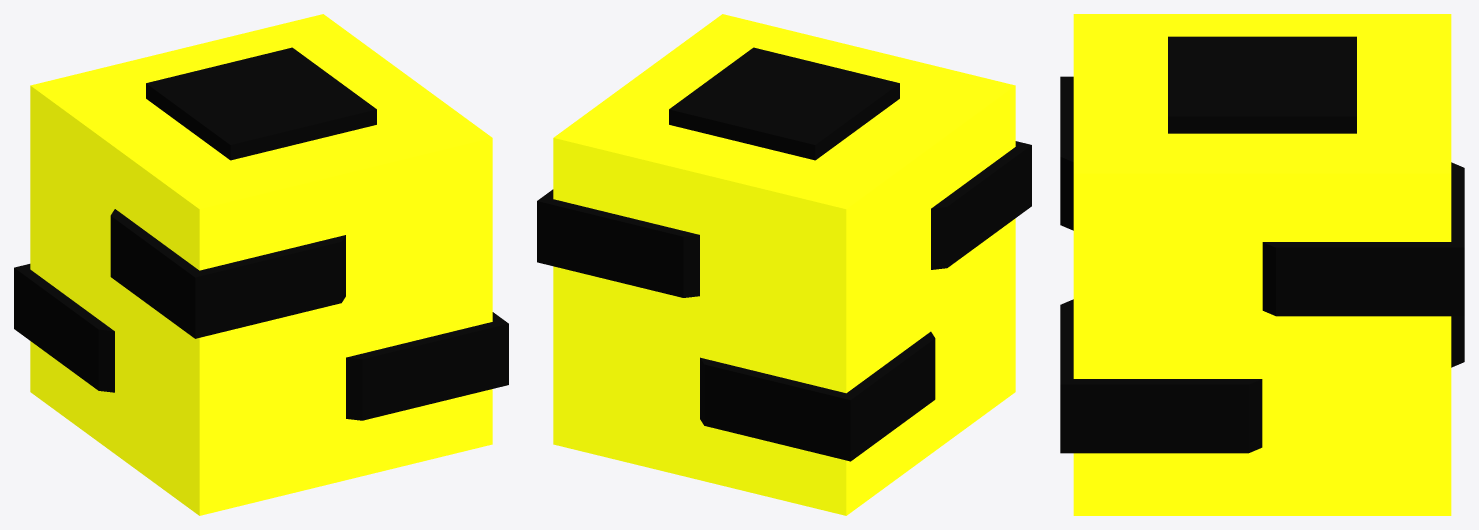
The model's file is Obstacle_1.fbx.
The picture shows the model from 3 angles, left to right: view 1: azimuth 30°, elevation 25°; view 2: azimuth 150°, elevation 25°; view 3: azimuth 270°, elevation 25°; orthographic projection. The views are drawn at different scales.
Parts seen in each view (by area): view 1: Obstacle_1; view 2: Obstacle_1; view 3: Obstacle_1.
Boxes of the visible parts, x1,y1,x2,y2 form: Obstacle_1: (14,14,508,515); Obstacle_1: (537,14,1031,515); Obstacle_1: (1060,14,1464,515).
Size of the model in its own units: 1.07 by 1.05 by 1.07.
